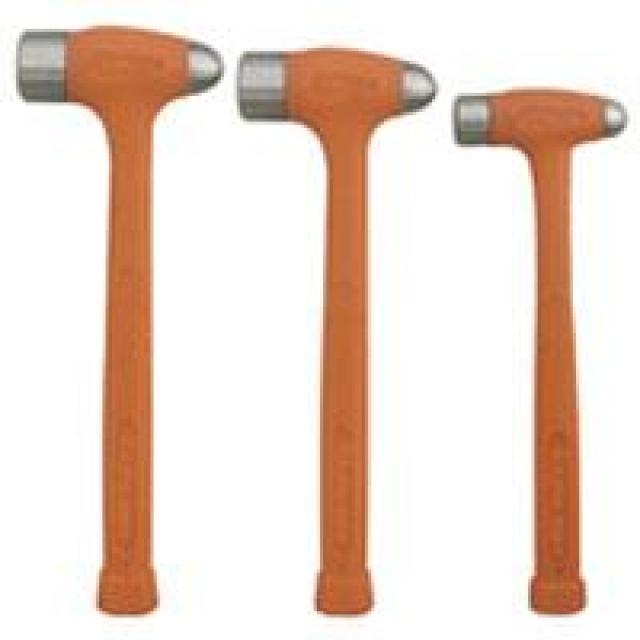hammer: (0, 6, 227, 608), (227, 28, 440, 639), (438, 64, 640, 640)
